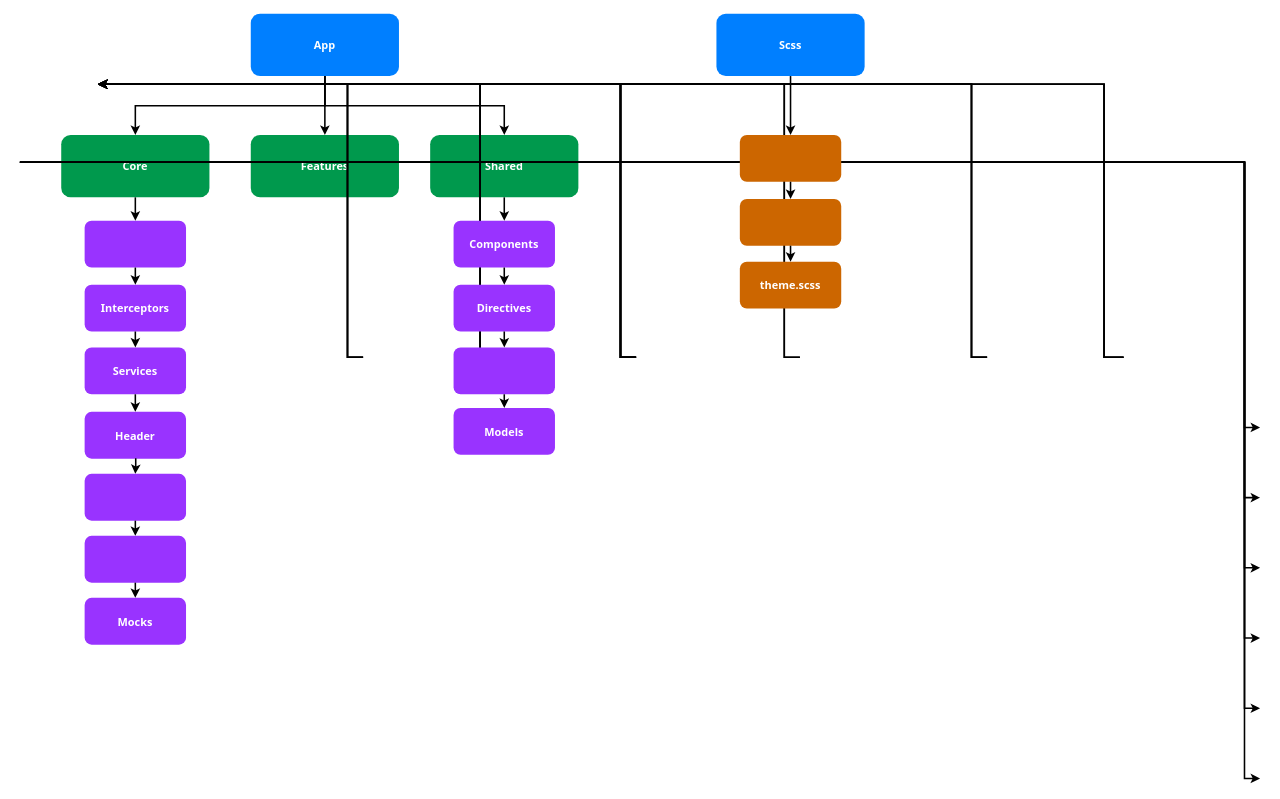
The diagram is 1280 pixels wide and 799 high, and some of its shapes have lost their labels. The centre of each missing label's shape, as x and y in pixels:
Animations: point (135, 243)
Footer: point (135, 496)
Guards: point (135, 558)
Pipes: point (504, 370)
styles-app-loading.scss: point (790, 222)
styles.scss: point (790, 158)
